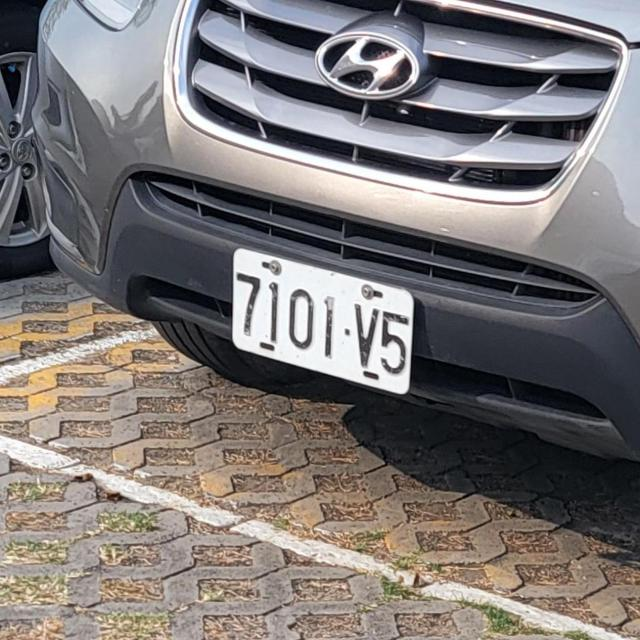W: (216, 237, 430, 408)
